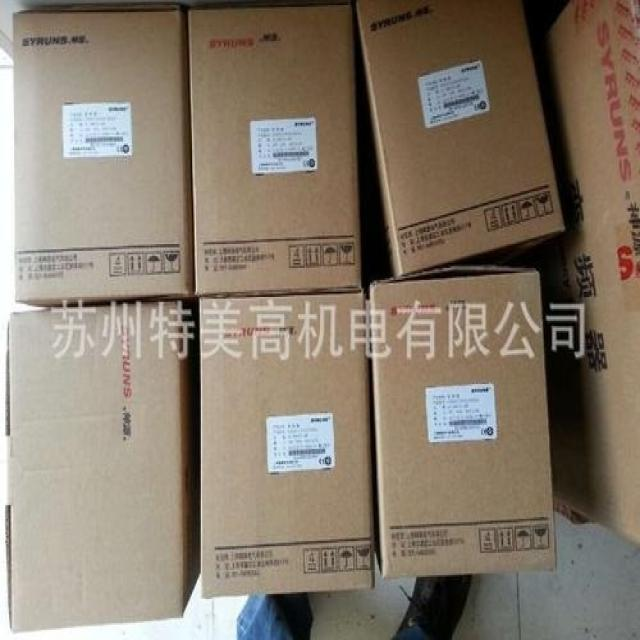box: (452, 0, 640, 546), (5, 297, 201, 630), (370, 265, 558, 580), (356, 0, 564, 278), (13, 3, 193, 307), (200, 290, 375, 599), (187, 2, 362, 295)
